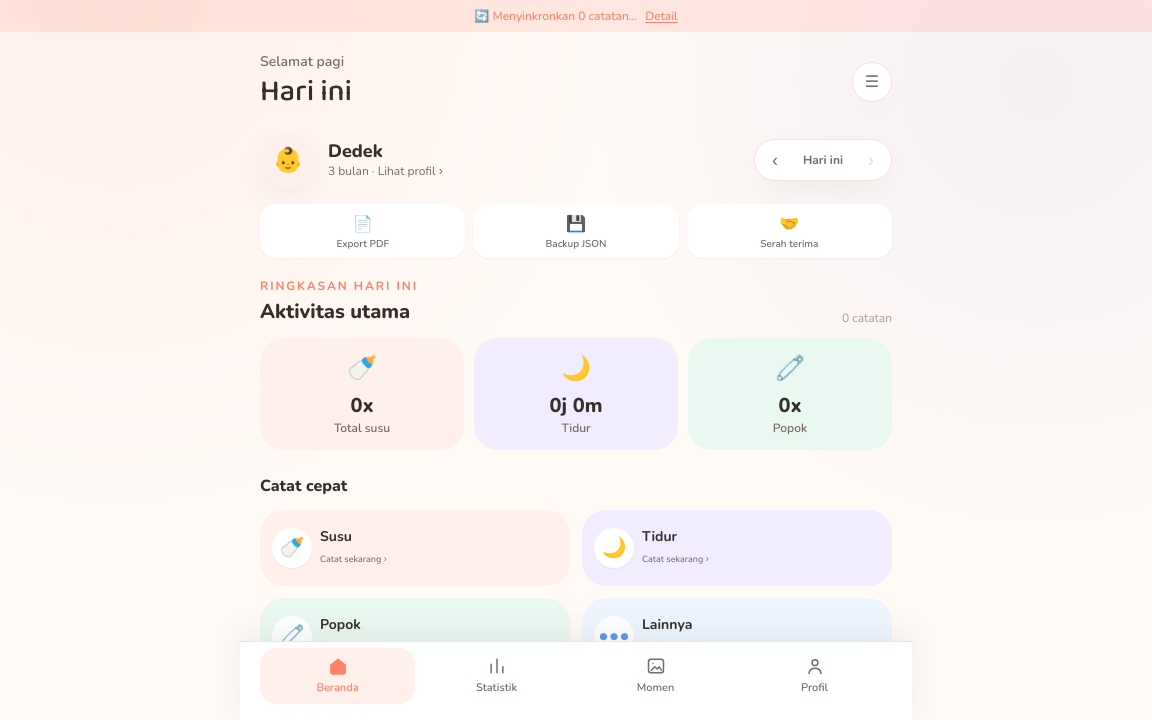
Scenario: App — logout preserves the queue but isolates it from other accounts › 23. explicit logout keeps the queued record intact (owned by the original user), never visible to a different account
Expected: the text "Dedek" is shown, 328,139 -> 383,163
Click the button "☰" at (872, 82), box 852,62 -> 892,102
(page scrolled)
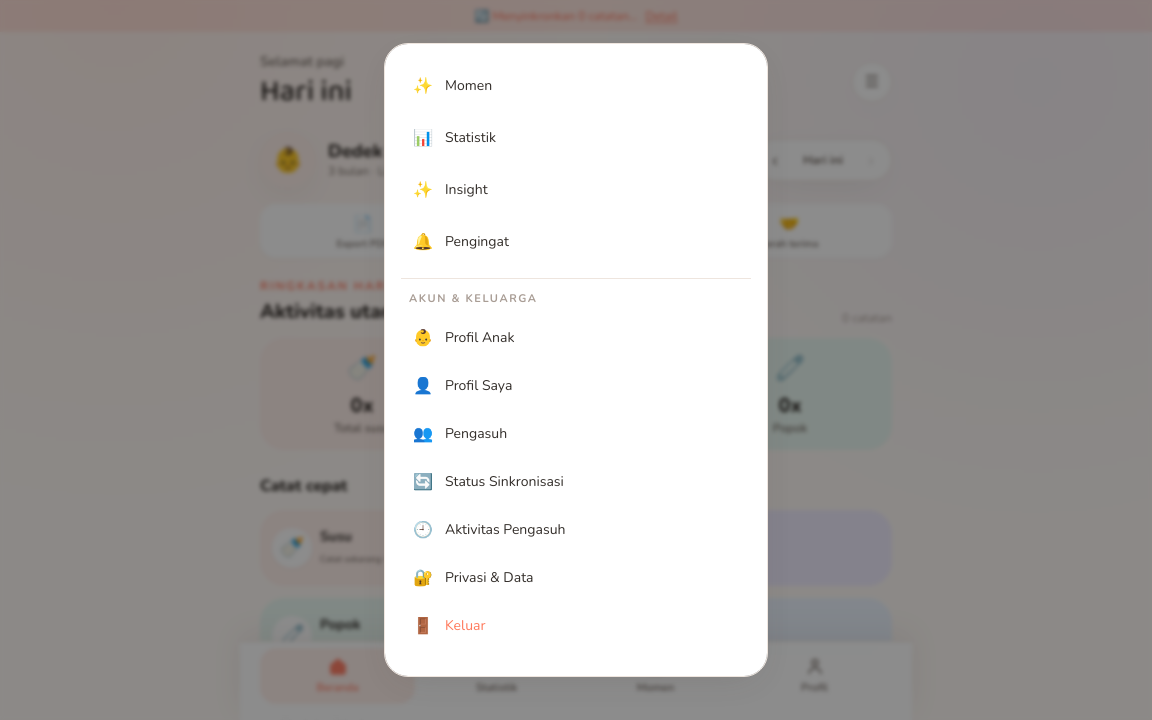
Click the button "🚪 Keluar" at (465, 625), box 401,604 -> 751,648
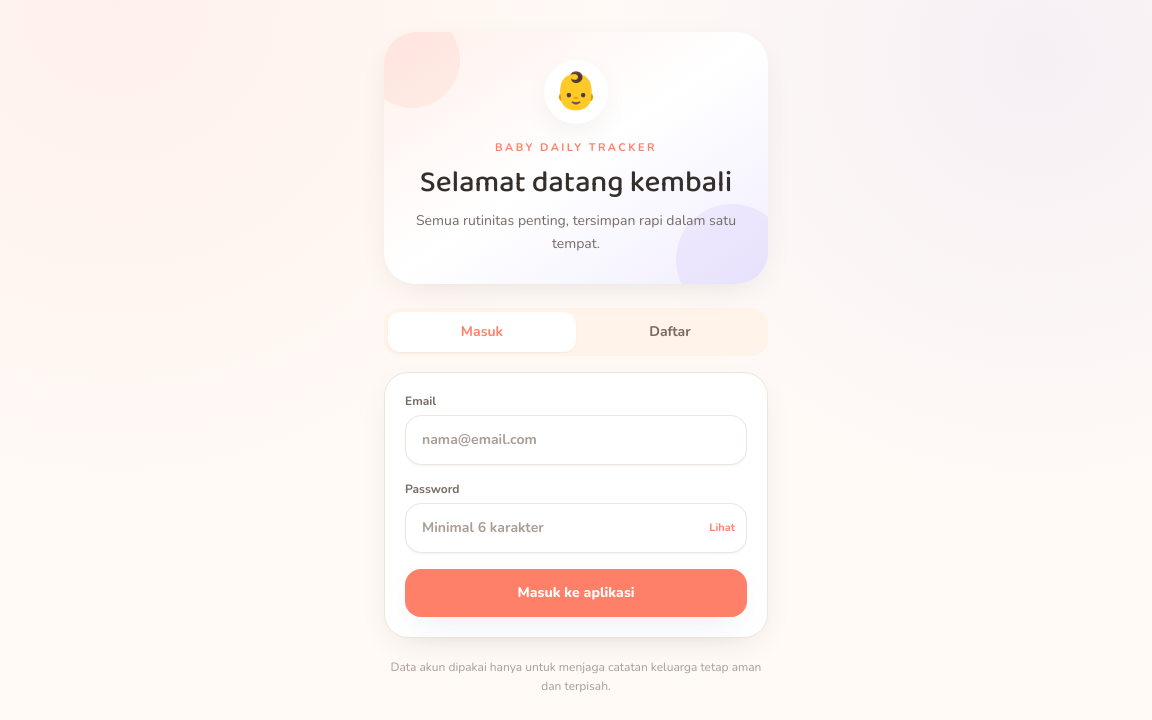
Expected: the text "Baby Daily Tracker" is shown, 495,140 -> 657,155
